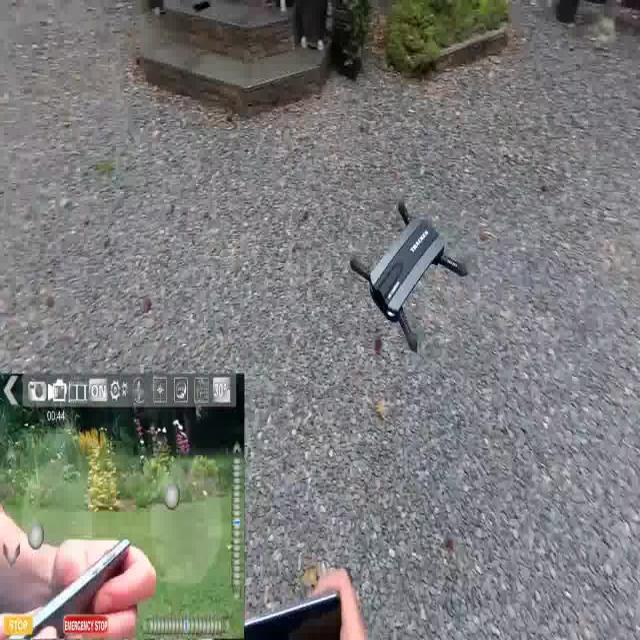drones: (324, 177, 479, 404)
